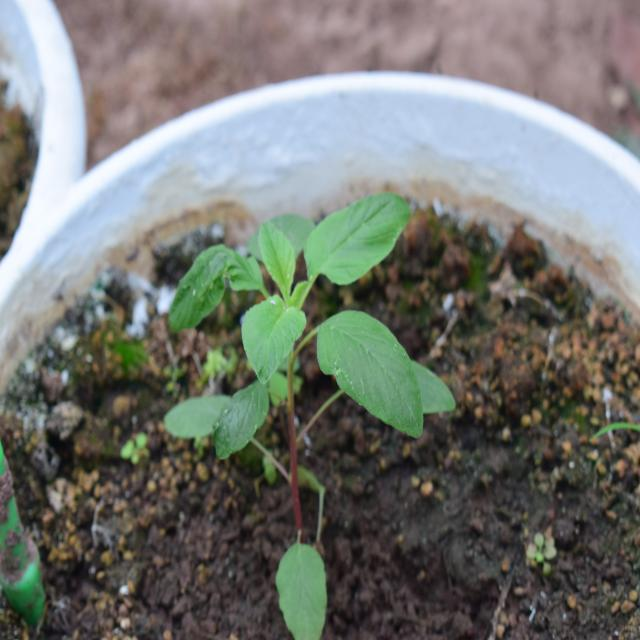pigweed: (180, 203, 442, 589)
